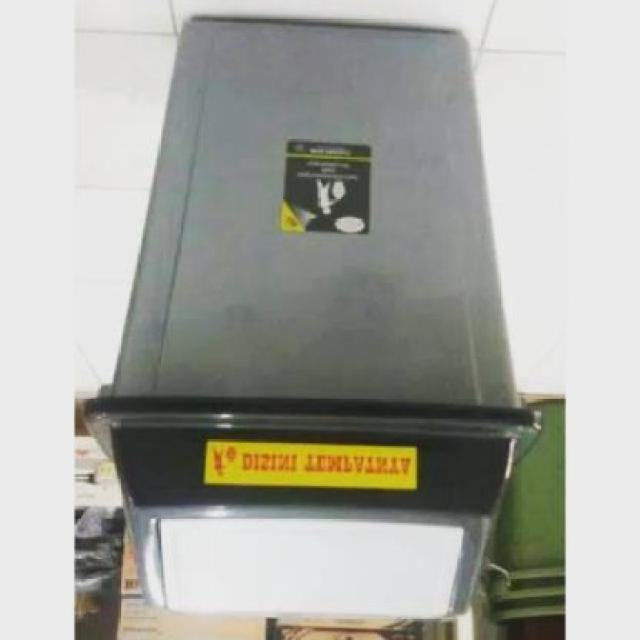garbage container: (80, 13, 543, 627)
